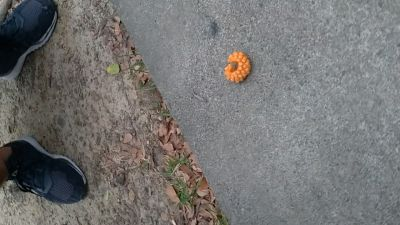eggs: (223, 50, 251, 86)
